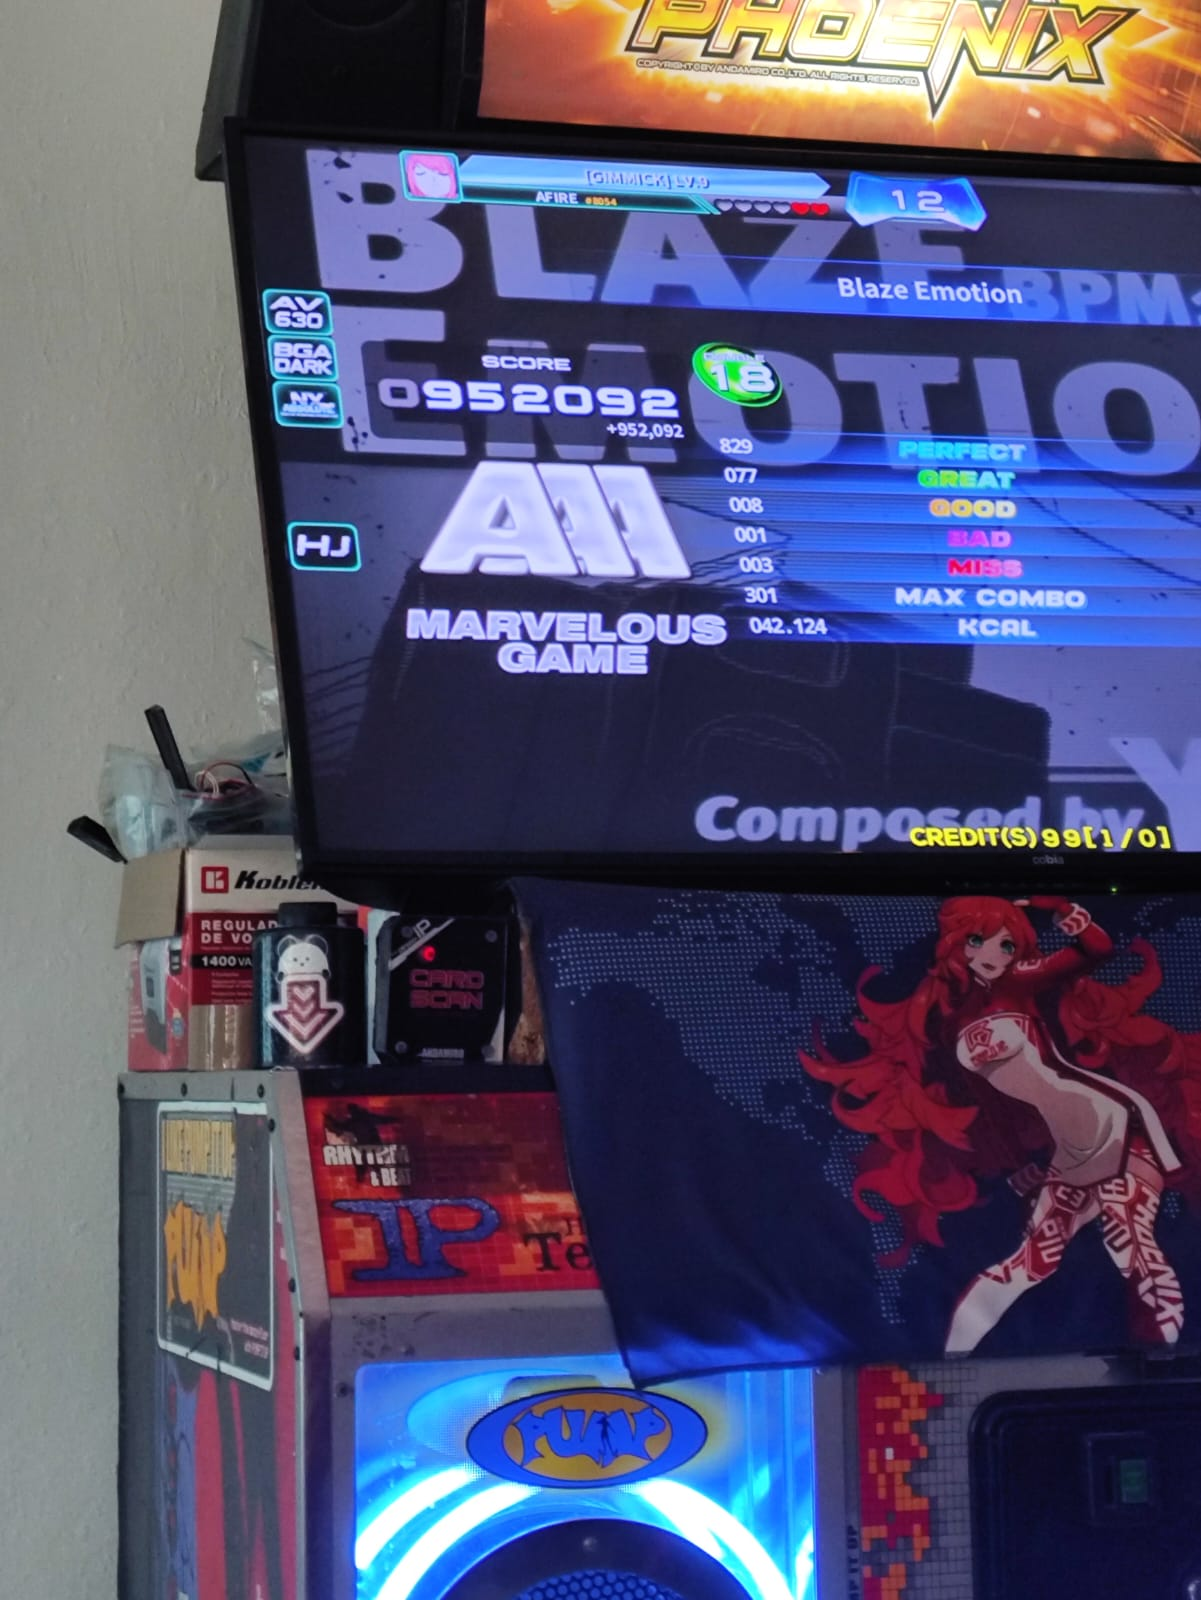difficulty: (689, 337, 795, 424)
fullscore: (233, 130, 1201, 866)
rank: (410, 466, 701, 575)
score: (376, 326, 691, 416)
song_name: (747, 251, 1142, 328)
